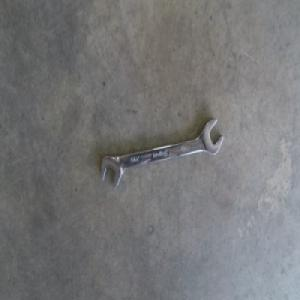Wrench: (100, 118, 224, 189)
